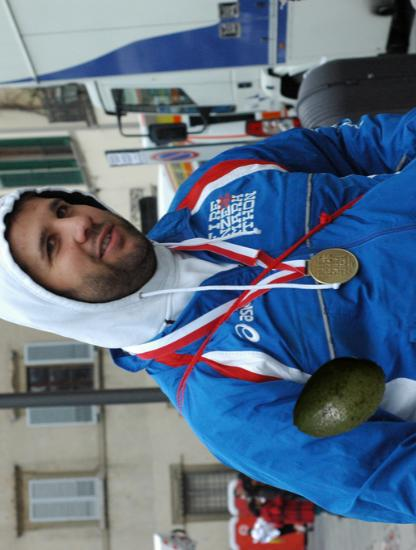Avocado: (285, 344, 390, 449)
